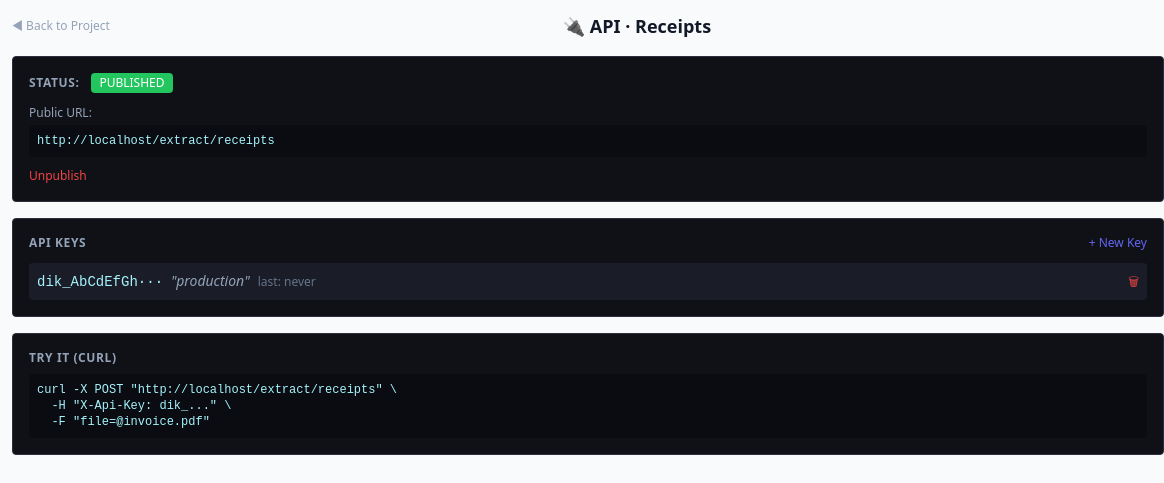
PublishPage › clicking 🗑 confirms then DELETEs the key
Expected: the text "dik_AbCdEfGh···" is shown, top-left (37, 274), bottom-right (163, 290)
Click the button titled "Delete" at (1134, 282), box top-left (1128, 274), bottom-right (1139, 290)
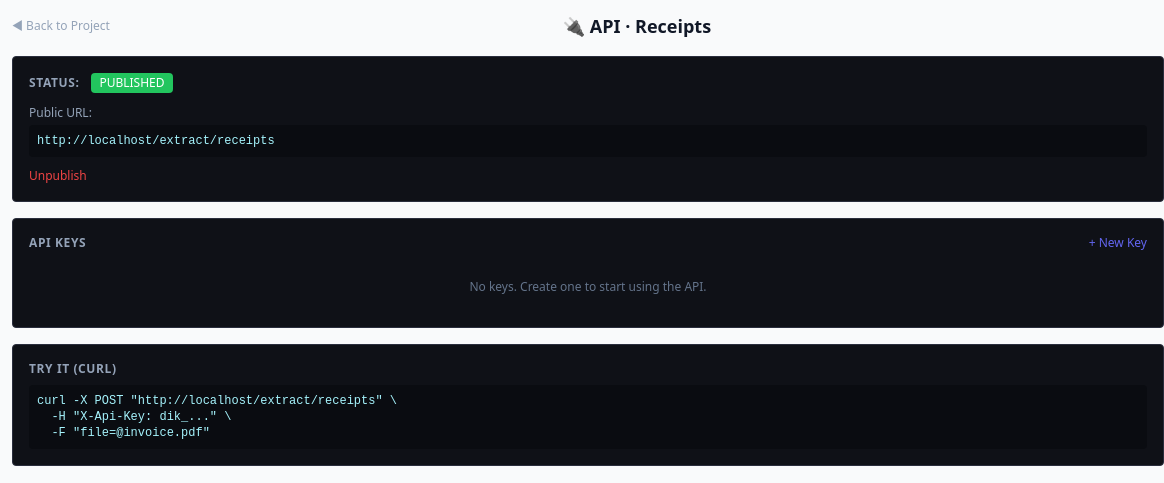
Expected: the text "dik_AbCdEfGh···" is gone
